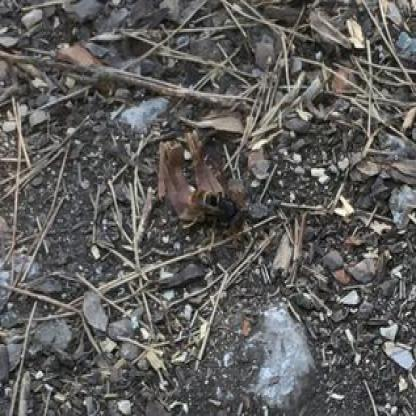Asian Hornet: (178, 188, 258, 239)
